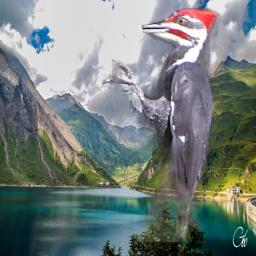Woodpecker: (101, 8, 221, 242)
